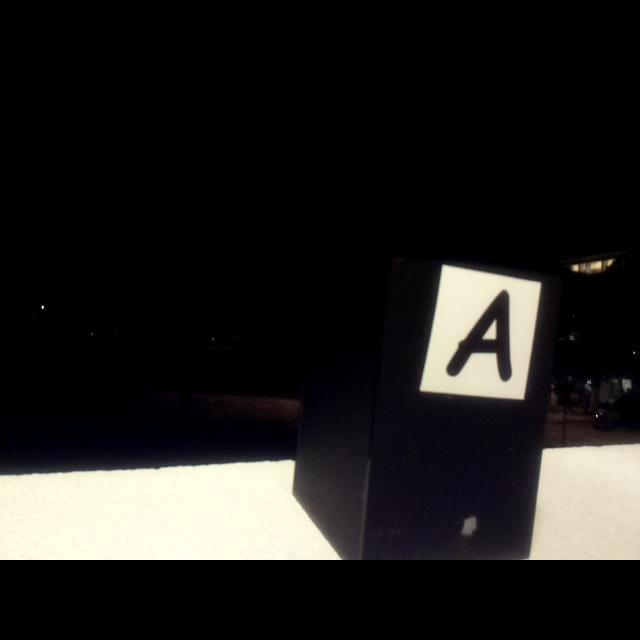A: (446, 289, 512, 382)
